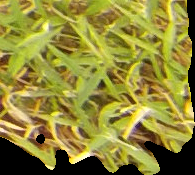grass: (1, 1, 195, 173)
